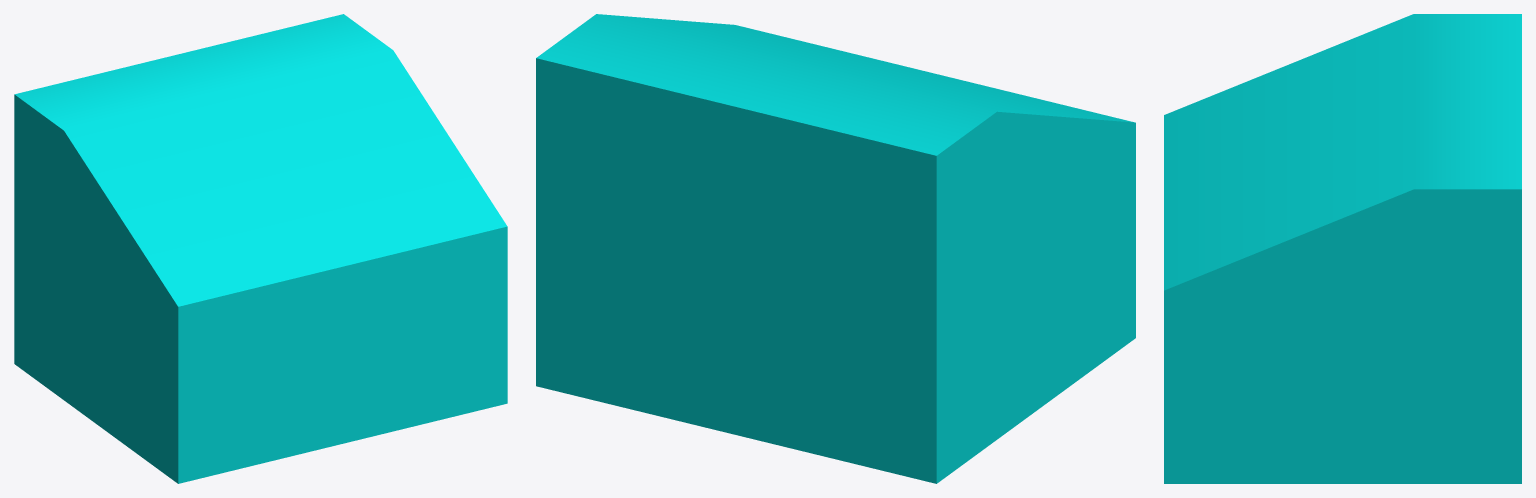
File: SM_Env_Rock_Stairs_01_Collision.fbx
The picture shows the model from 3 angles, left to right: view 1: azimuth 30°, elevation 25°; view 2: azimuth 150°, elevation 25°; view 3: azimuth 270°, elevation 25°; orthographic projection. The views are drawn at different scales.
Visible parts, largest first — view 1: SM_Env_Rock_Stairs_01_Collision; view 2: SM_Env_Rock_Stairs_01_Collision; view 3: SM_Env_Rock_Stairs_01_Collision.
Part boxes in pixels (x1=…): SM_Env_Rock_Stairs_01_Collision: x1=14, y1=14, x2=507, y2=483; SM_Env_Rock_Stairs_01_Collision: x1=536, y1=14, x2=1135, y2=483; SM_Env_Rock_Stairs_01_Collision: x1=1164, y1=14, x2=1521, y2=483.
Bounding box in the file's own units: 259 × 203 × 223.
